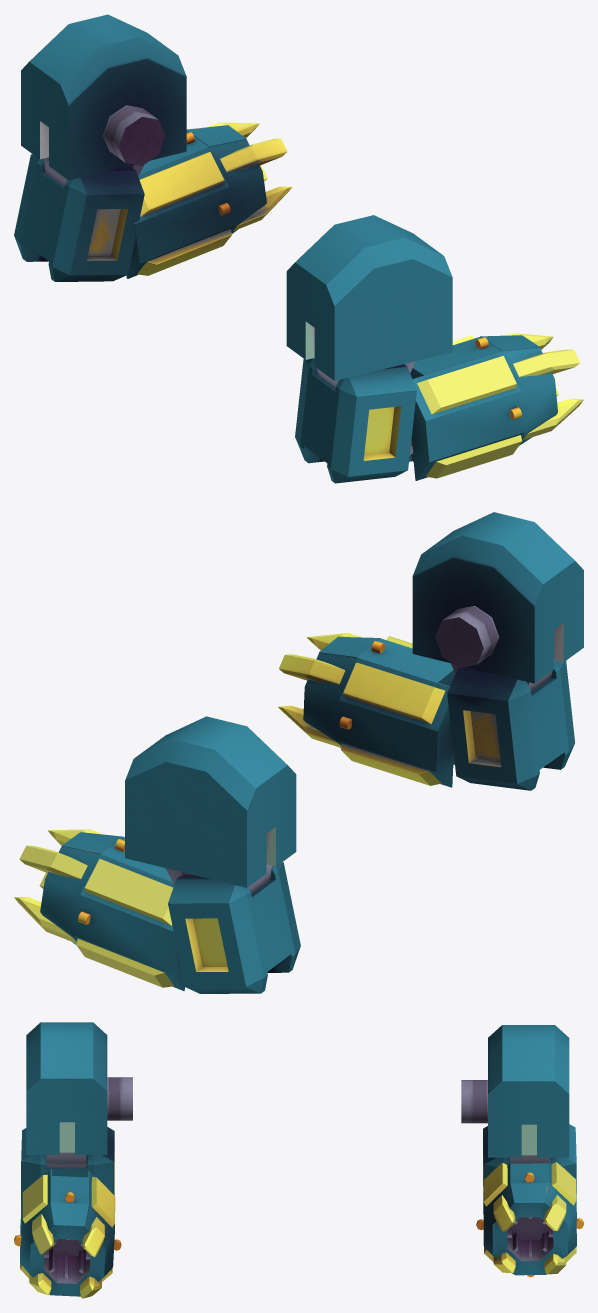
Rendered from Player_Attack_Arm12.obj.
3 views of the same model, one above another, from view 1: azimuth 30°, elevation 25°; view 2: azimuth 150°, elevation 25°; view 3: azimuth 270°, elevation 25° (orthographic). The views are drawn at different scales.
Visible parts, largest first — view 1: Object003, Object005, Object001, Object007, Object006, Object002; view 2: Object003, Object005, Object001, Object007, Object006, Object002; view 3: Object005, Object003, Object001, Object007, Object002, Object006.
Part boxes in pixels (<box>): Object003: <box>286,215,452,380</box>; Object005: <box>21,14,186,180</box>; Object001: <box>409,333,583,480</box>; Object007: <box>126,122,291,278</box>; Object006: <box>14,154,144,281</box>; Object002: <box>295,358,416,483</box>; Object003: <box>412,512,583,683</box>; Object005: <box>125,716,296,887</box>; Object001: <box>278,633,455,787</box>; Object007: <box>14,829,184,990</box>; Object006: <box>165,862,300,993</box>; Object002: <box>447,660,575,790</box>; Object005: <box>461,1025,569,1157</box>; Object003: <box>26,1022,132,1154</box>; Object001: <box>14,1169,121,1298</box>; Object007: <box>476,1158,583,1277</box>; Object002: <box>21,1127,114,1211</box>; Object006: <box>483,1124,576,1218</box>.
Size of the model in its own units: 37.51 by 34.55 by 83.71.
Materials: 1 (1 with a texture image).
